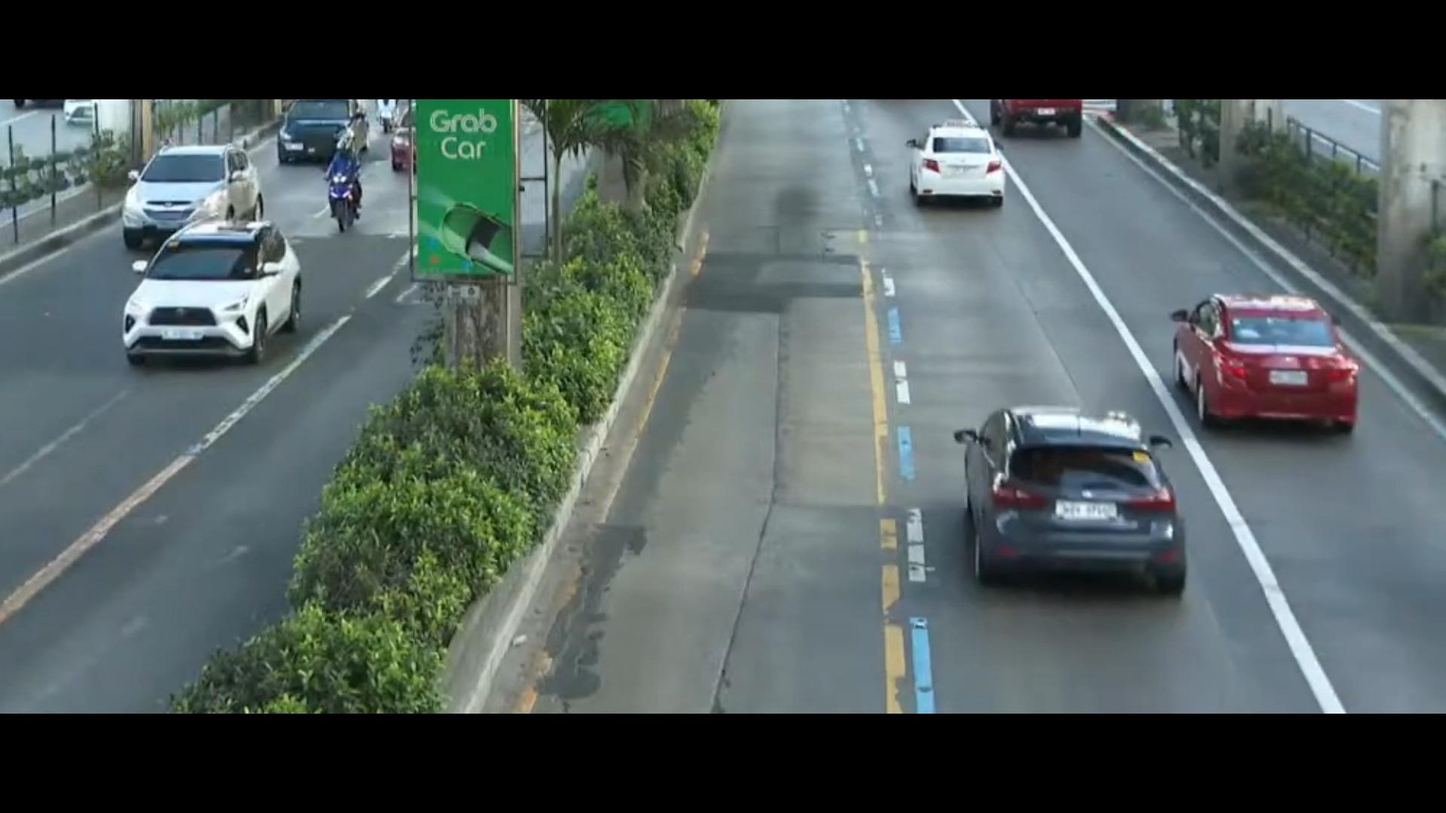Motorcycle: (315, 134, 379, 236)
SUV: (929, 365, 1203, 627), (99, 215, 313, 381), (90, 134, 277, 256)
Sedan: (1166, 269, 1388, 454), (891, 119, 1036, 230)
